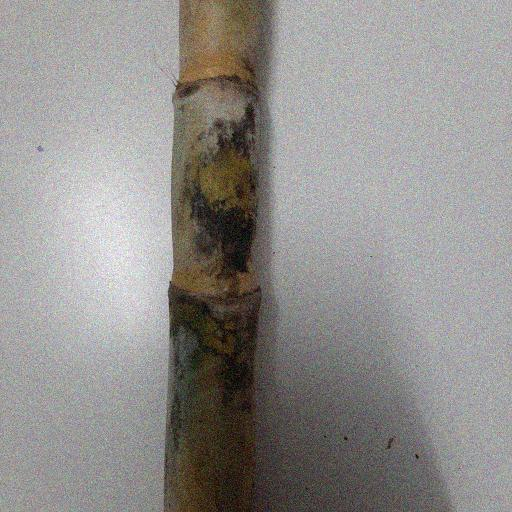Bud: (218, 271, 239, 299)
